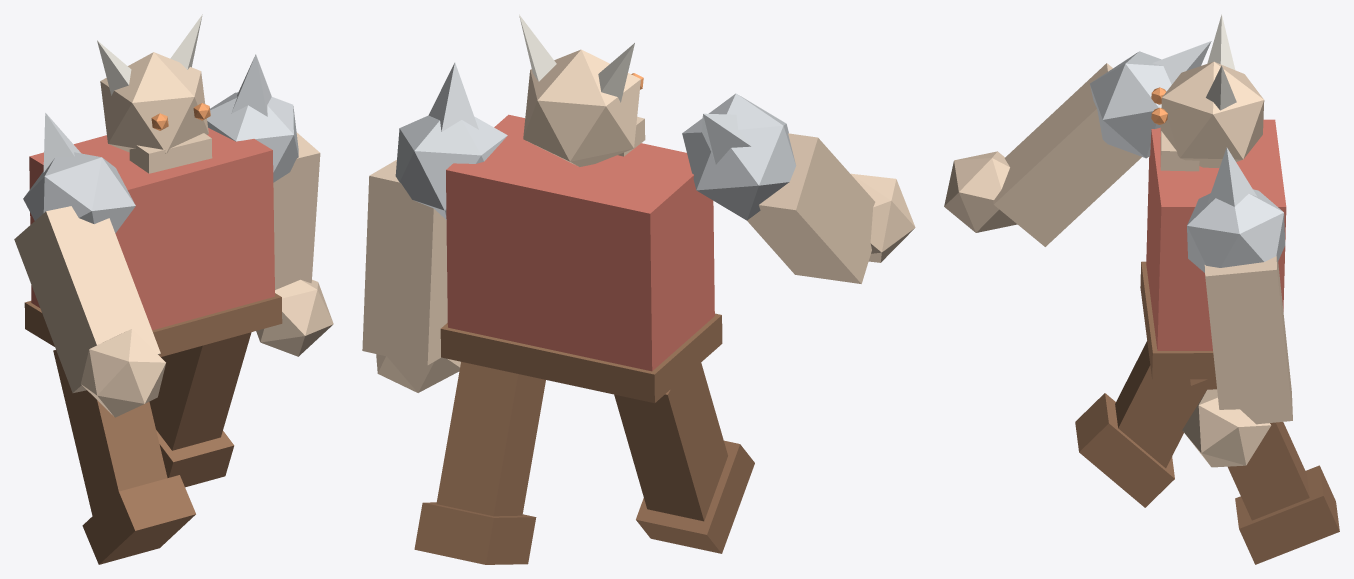
File: npcpose_brute_walk_02.glb
3 views of the same model, side by side, from view 1: azimuth 30°, elevation 25°; view 2: azimuth 150°, elevation 25°; view 3: azimuth 270°, elevation 25° (orthographic). The views are drawn at different scales.
Parts seen in each view (by area): view 1: npcpose; view 2: npcpose; view 3: npcpose.
Boxes of the visible parts, x1,y1,x2,y2 form: npcpose: (14, 14, 333, 564); npcpose: (362, 14, 915, 564); npcpose: (944, 14, 1339, 564).
Bounding box in the file's own units: 1.43 × 1.86 × 1.38.
